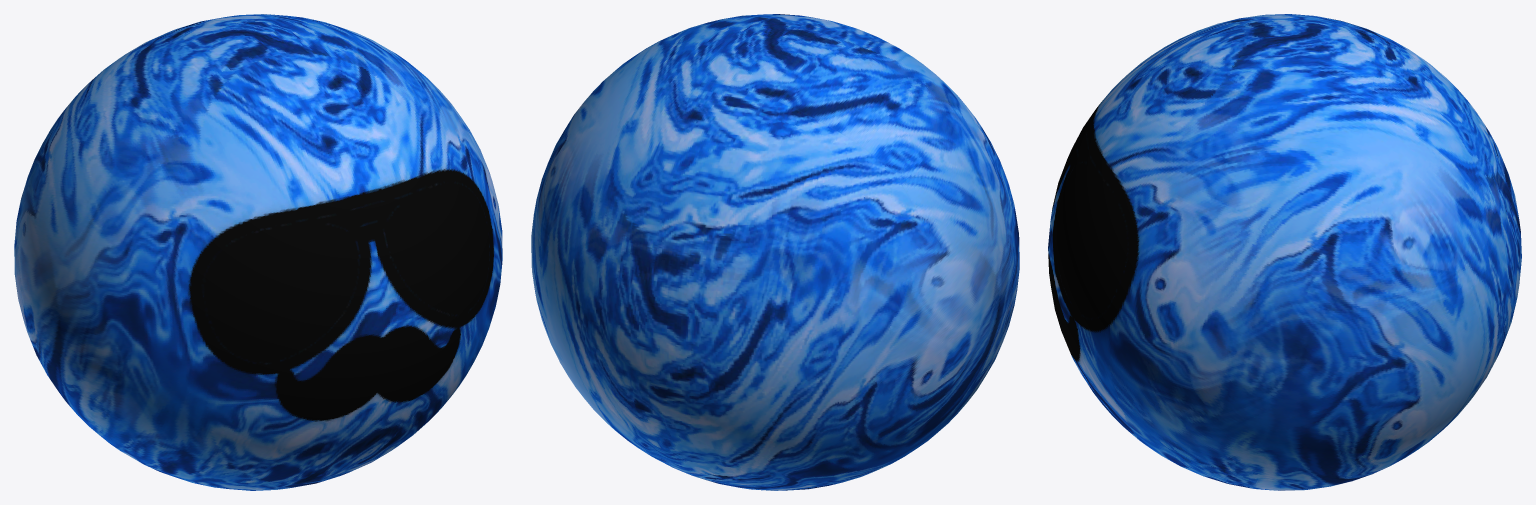
File: EpicFace.fbx
3 views of the same model, side by side, from view 1: azimuth 30°, elevation 25°; view 2: azimuth 150°, elevation 25°; view 3: azimuth 270°, elevation 25° (orthographic).
Parts seen in each view (by area): view 1: root; view 2: root; view 3: root.
Boxes of the visible parts, x1,y1,x2,y2 form: root: [14, 14, 502, 490]; root: [531, 14, 1019, 490]; root: [1048, 14, 1521, 490].
Bounding box in the file's own units: 0.2394 × 0.2312 × 0.2312.
Materials: 1 (1 with a texture image).
